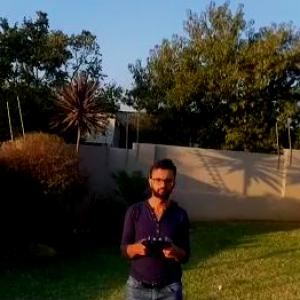follow: (114, 154, 194, 299)
